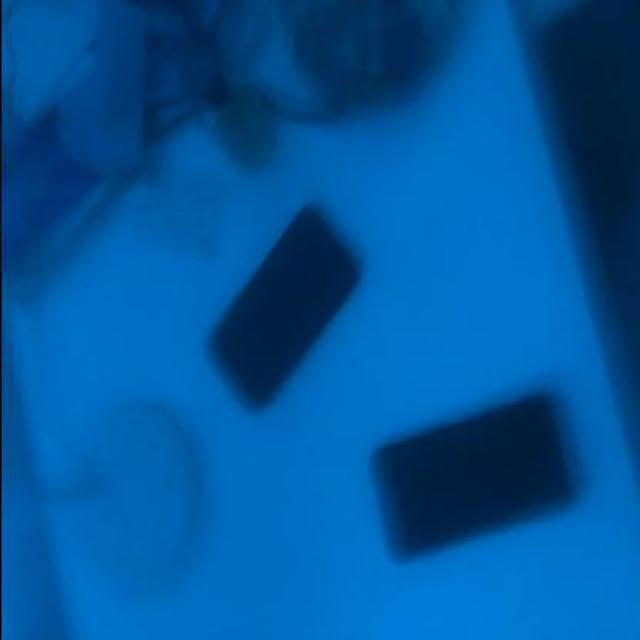phone: (368, 391, 572, 560), (207, 204, 361, 410)
